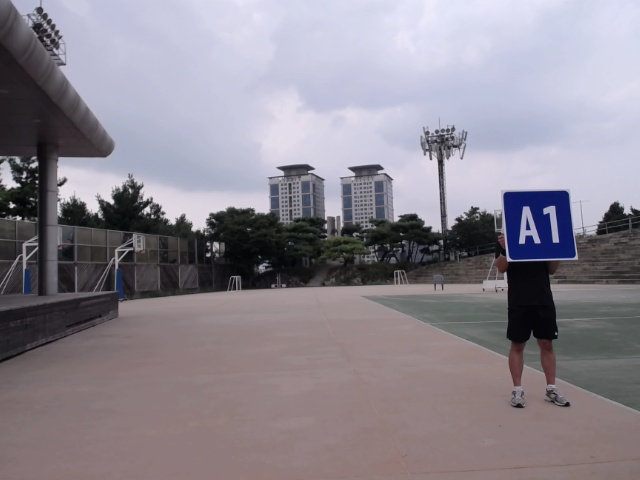delivery_a1: (501, 190, 578, 259)
